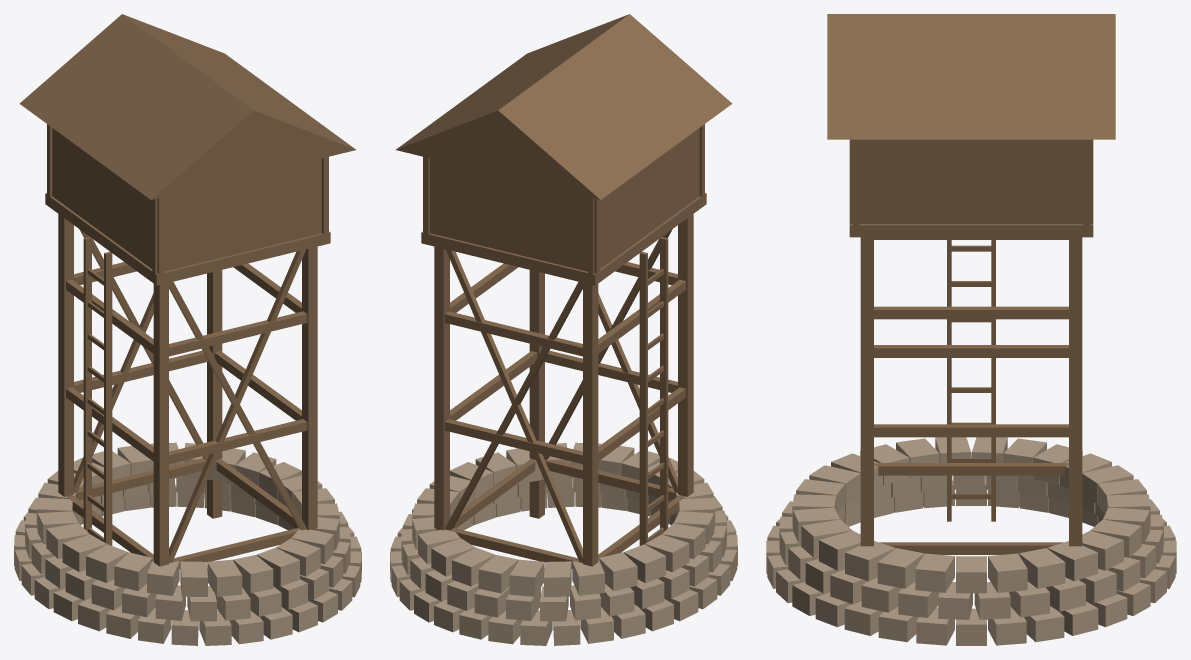
File: Watchtower.glb
3 views of the same model, side by side, from view 1: azimuth 30°, elevation 25°; view 2: azimuth 150°, elevation 25°; view 3: azimuth 270°, elevation 25° (orthographic). The views are drawn at different scales.
Parts seen in each view (by area): view 1: Watchtower; view 2: Watchtower; view 3: Watchtower.
Part boxes in pixels (x1=…): Watchtower: x1=14, y1=14, x2=361, y2=645; Watchtower: x1=390, y1=14, x2=737, y2=645; Watchtower: x1=766, y1=14, x2=1176, y2=645.
Size of the model in its own units: 3.83 by 6.33 by 4.25.
